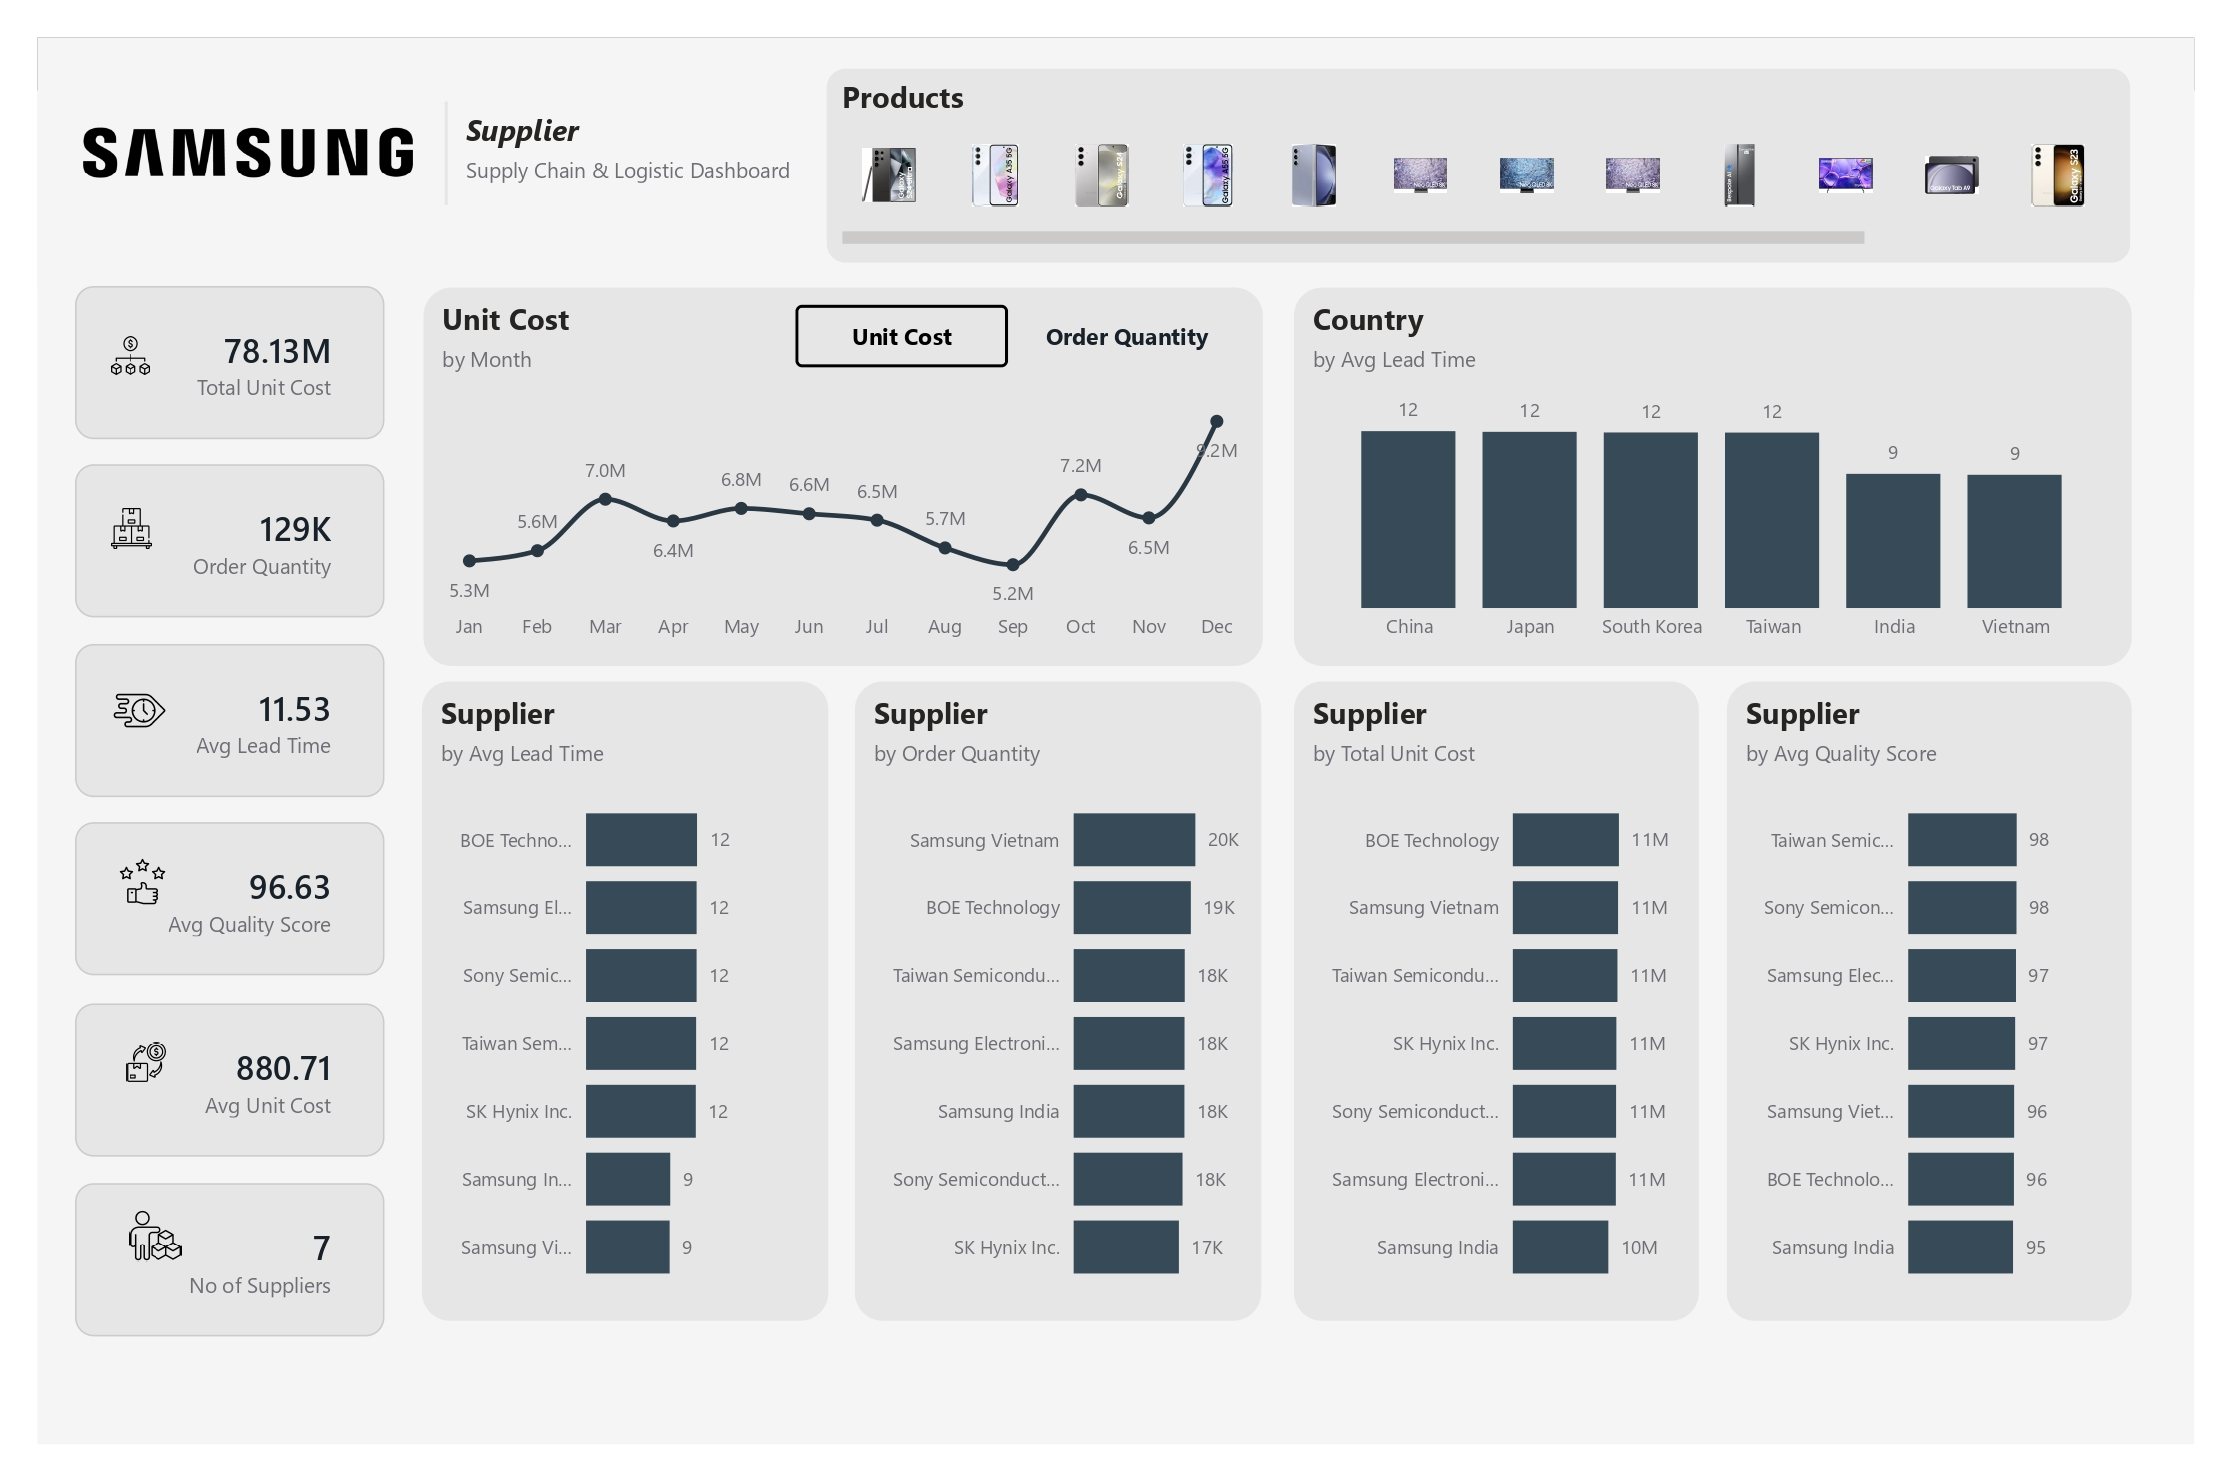

The page's visual inventory and layout, read from the dashboard file:
{"tool":"powerbi","page":{"name":"Supplier","canvas":[1380,900],"ordinal":2},"visuals":[{"type":"image","box":[11.8,34.2,235.5,77.6],"z":0},{"type":"shape","box":[259.2,40.8,5.3,65.8],"z":1000},{"type":"shape","title":"Supplier","box":[273.7,46.1,225,55.3],"z":2000},{"type":"cardVisual","fields":{"Data":["MeasureTable.Order_QTY"]},"box":[23.5,272.5,198,98],"z":3000},{"type":"cardVisual","fields":{"Data":["MeasureTable.Avg_Lead_Time"]},"box":[23.5,388.2,198,98],"z":4000},{"type":"cardVisual","fields":{"Data":["MeasureTable.Avg_quality_score"]},"box":[23.5,502,198,98],"z":5000},{"type":"cardVisual","fields":{"Data":["MeasureTable.Avg_Unit_Cost"]},"box":[23.5,617.6,198,98],"z":6000},{"type":"cardVisual","fields":{"Data":["Count(dim_supplier.supplier_id)"]},"box":[23.5,733.3,198,98],"z":7000},{"type":"cardVisual","fields":{"Data":["MeasureTable.Total_Unit_Cost"]},"box":[23.5,158.8,198,98],"z":8000},{"type":"clusteredBarChart","title":"Supplier","fields":{"Y":["MeasureTable.Avg_Lead_Time"],"Category":["dim_supplier.supplier_name"]},"box":[246.2,411.5,259.6,409.6],"z":9000},{"type":"clusteredBarChart","title":"Supplier ","fields":{"Category":["dim_supplier.supplier_name"],"Y":["MeasureTable.Order_QTY"]},"box":[523.1,411.5,259.6,409.6],"z":10000},{"type":"clusteredBarChart","title":"Supplier ","fields":{"Category":["dim_supplier.supplier_name"],"Y":["MeasureTable.Total_Unit_Cost"]},"box":[803.8,411.5,259.6,409.6],"z":11000},{"type":"columnChart","title":"Country ","fields":{"Category":["dim_supplier.country"],"Y":["MeasureTable.Avg_Lead_Time"]},"box":[803.8,159.6,536.5,242.3],"z":12000},{"type":"group","id":"g1","title":"Group 1","box":[247.1,160,536.5,242.4],"z":13000},{"type":"lineChart","title":"Unit Cost ","fields":{"Y":["MeasureTable.Total_Unit_Cost"],"Category":["dim_date.Month_Short"]},"box":[247.1,160,536.5,242.3],"z":13000,"group":"g1"},{"type":"clusteredBarChart","title":"Supplier ","fields":{"Category":["dim_supplier.supplier_name"],"Y":["MeasureTable.Avg_quality_score"]},"box":[1080.8,411.5,259.6,409.6],"z":14000},{"type":"advancedSlicerVisual","fields":{"Values":["Cost_Qty_Supplier.Cost_Qty_Supplier"]},"box":[479.8,165.8,290.4,50],"z":15000,"group":"g1"},{"type":"image","box":[32.9,190.6,52.9,25.9],"z":15000},{"type":"image","box":[32.9,301.2,52.9,25.9],"z":16000},{"type":"image","box":[34.2,410.5,63.2,39.5],"z":17000},{"type":"image","box":[35,525,62.5,30],"z":18000},{"type":"image","box":[37.5,642.5,62.5,25],"z":19000},{"type":"image","box":[42.5,750,65,32.5],"z":20000},{"type":"advancedSlicerVisual","title":"Products","fields":{"Values":["dim_product.Img"]},"box":[504.9,19.7,834.4,124.6],"z":21000}]}

Visuals, with their boxes on the page's 1380x900 design canvas (x1, y1, x2, y2). These are canvas units, not pixel positions in the 2232x1482 screenshot, which may show the page scaled, cropped or inside an application window:
image: <box>12,34,247,112</box>
shape: <box>259,41,264,107</box>
"Supplier" shape: <box>274,46,499,101</box>
cardVisual - MeasureTable.Order_QTY: <box>24,272,222,370</box>
cardVisual - MeasureTable.Avg_Lead_Time: <box>24,388,222,486</box>
cardVisual - MeasureTable.Avg_quality_score: <box>24,502,222,600</box>
cardVisual - MeasureTable.Avg_Unit_Cost: <box>24,618,222,716</box>
cardVisual - Count(dim_supplier.supplier_id): <box>24,733,222,831</box>
cardVisual - MeasureTable.Total_Unit_Cost: <box>24,159,222,257</box>
"Supplier" clusteredBarChart: <box>246,412,506,821</box>
"Supplier " clusteredBarChart: <box>523,412,783,821</box>
"Supplier " clusteredBarChart: <box>804,412,1063,821</box>
"Country " columnChart: <box>804,160,1340,402</box>
"Group 1" group: <box>247,160,784,402</box>
"Unit Cost " lineChart: <box>247,160,784,402</box>
"Supplier " clusteredBarChart: <box>1081,412,1340,821</box>
advancedSlicerVisual - Cost_Qty_Supplier.Cost_Qty_Supplier: <box>480,166,770,216</box>
image: <box>33,191,86,216</box>
image: <box>33,301,86,327</box>
image: <box>34,410,97,450</box>
image: <box>35,525,98,555</box>
image: <box>38,642,100,668</box>
image: <box>42,750,108,782</box>
"Products" advancedSlicerVisual: <box>505,20,1339,144</box>
